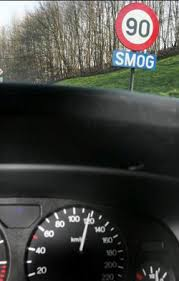Speed_limit_90km: (115, 2, 160, 51)
